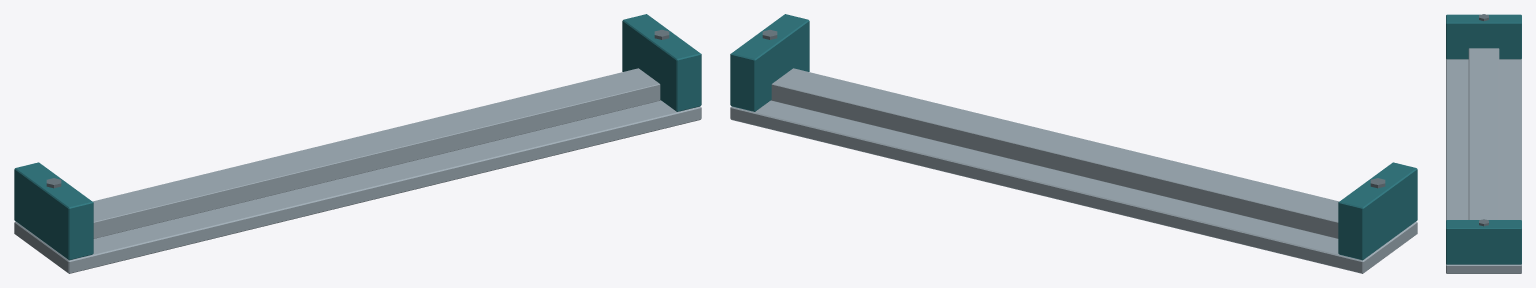
The model's file is VLAB_slider_rail.fbx.
The picture shows the model from 3 angles, left to right: view 1: azimuth 30°, elevation 25°; view 2: azimuth 150°, elevation 25°; view 3: azimuth 270°, elevation 25°; orthographic projection. The views are drawn at different scales.
Parts seen in each view (by area): view 1: VLAB_slider_rail_Guide_VIS, VLAB_slider_rail_Stops_VIS; view 2: VLAB_slider_rail_Guide_VIS, VLAB_slider_rail_Stops_VIS; view 3: VLAB_slider_rail_Guide_VIS, VLAB_slider_rail_Stops_VIS.
Boxes of the visible parts, x1,y1,x2,y2 form: VLAB_slider_rail_Guide_VIS: (14,68,701,273); VLAB_slider_rail_Stops_VIS: (14,14,701,260); VLAB_slider_rail_Guide_VIS: (730,68,1417,273); VLAB_slider_rail_Stops_VIS: (730,14,1417,260); VLAB_slider_rail_Guide_VIS: (1446,48,1521,273); VLAB_slider_rail_Stops_VIS: (1446,14,1521,264).
Bounding box in the file's own units: 0.2 × 0.0211 × 0.03.
